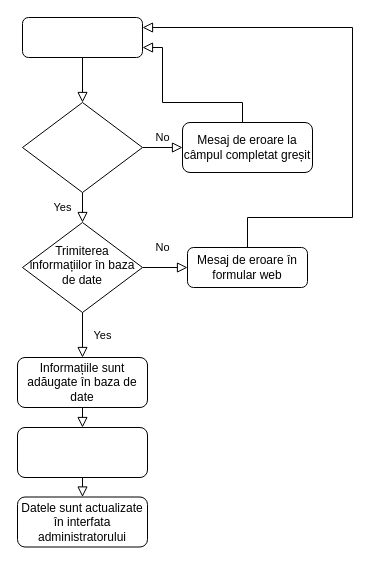
The diagram is 380 pixels wide and 565 high, and some of its shapes have lost their labels. Each missing label, with the centre of its shape:
"Formular pentru înscriere" goes at [82,37].
"Utilizatorul este redirecționat către o pagină de confirmare" goes at [82,452].
"Înscriere validată" goes at [82,147].
